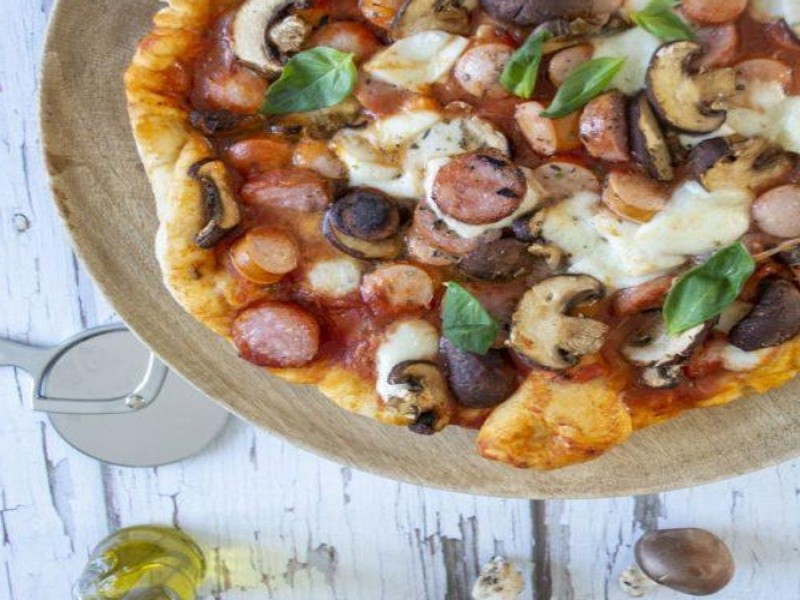champignon: (497, 269, 610, 381), (636, 35, 747, 136), (212, 1, 322, 80), (374, 357, 464, 441), (690, 138, 796, 194)
